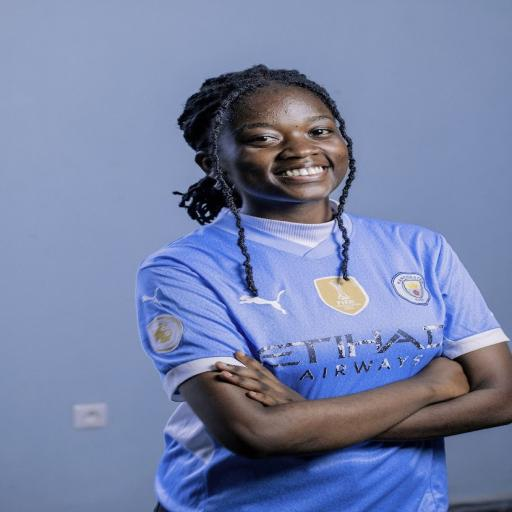LAURENE: (161, 56, 386, 230)
